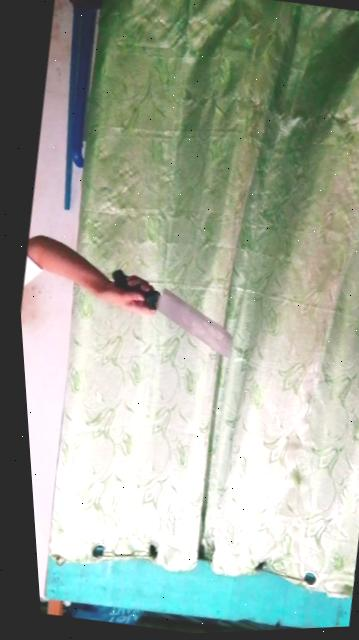long knife: (84, 259, 246, 372)
